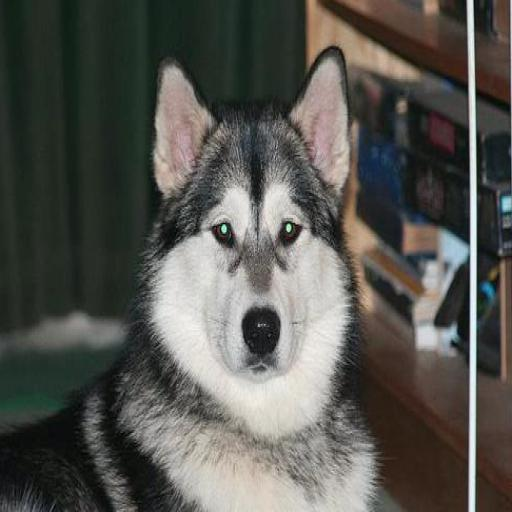dog_face: (150, 44, 357, 382)
